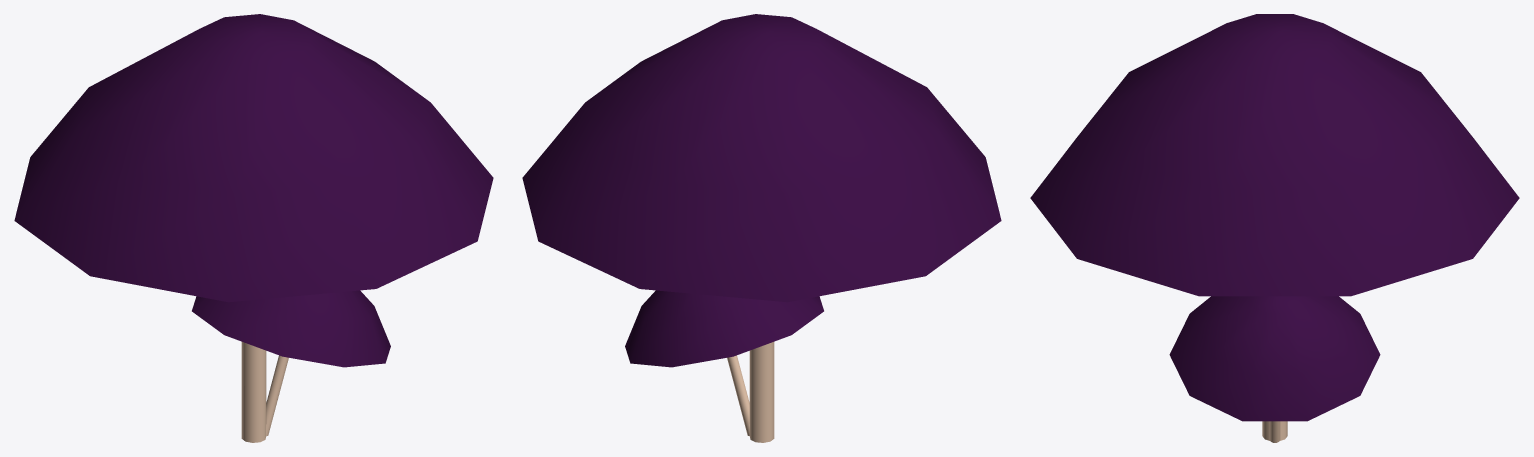
The model's file is mushtree3.fbx.
3 renders of one model, left to right at view 1: azimuth 30°, elevation 25°; view 2: azimuth 150°, elevation 25°; view 3: azimuth 270°, elevation 25°, orthographic.
Visible parts, largest first — view 1: Cylinder; view 2: Cylinder; view 3: Cylinder.
Part boxes in pixels (x1,y1,x2,y2): Cylinder: (14, 14, 493, 442); Cylinder: (522, 14, 1001, 442); Cylinder: (1030, 14, 1519, 442).
Bounding box in the file's own units: 1698 × 1637 × 1785.
